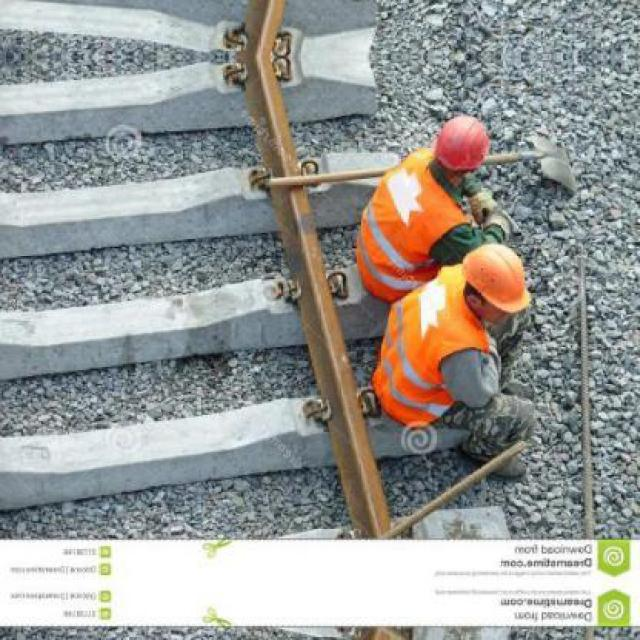Reflective-Jacket: (368, 262, 482, 421), (349, 146, 448, 298)
Safety-Helmet: (461, 239, 534, 318), (426, 108, 499, 177)
